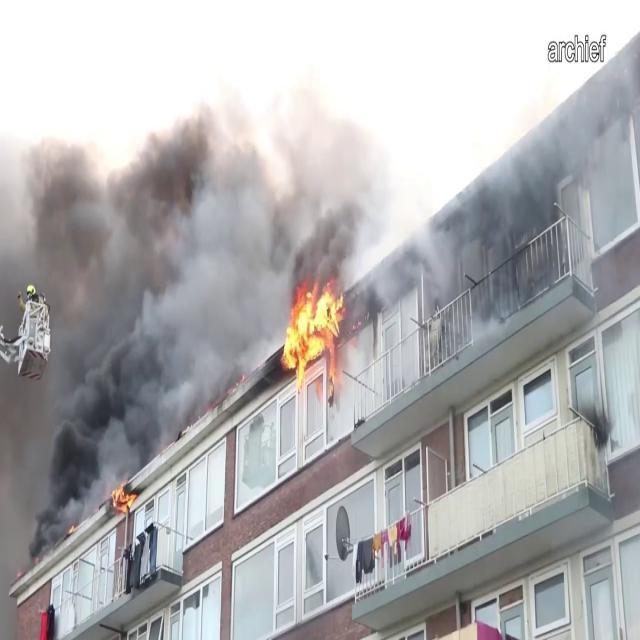Fire: (274, 281, 352, 394)
Smoke: (7, 0, 302, 533), (311, 1, 634, 296)
